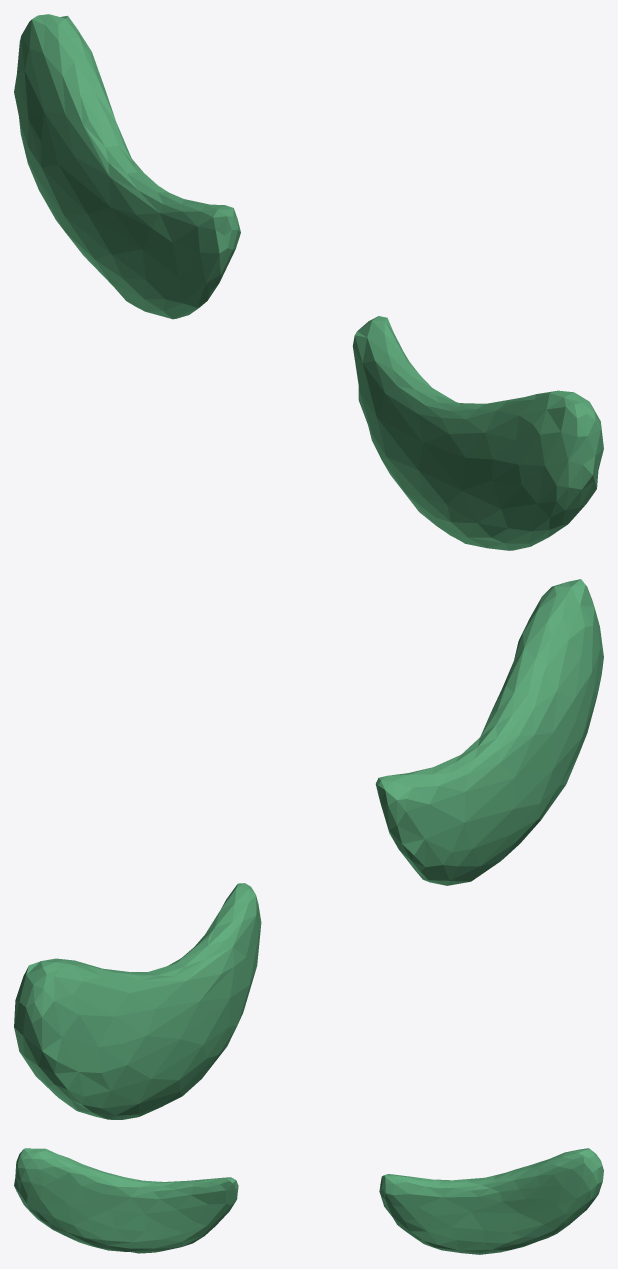
3 renders of one model, top to bottom at view 1: azimuth 30°, elevation 25°; view 2: azimuth 150°, elevation 25°; view 3: azimuth 270°, elevation 25°, orthographic. The views are drawn at different scales.
Visible parts, largest first — view 1: 667.obj; view 2: 667.obj; view 3: 667.obj.
Boxes of the visible parts, left/top/right/bottom form: 667.obj: left=14, top=14, right=603, bottom=550; 667.obj: left=14, top=579, right=603, bottom=1119; 667.obj: left=14, top=1148, right=603, bottom=1254.
Size of the model in its own units: 273 by 716 by 3504.
